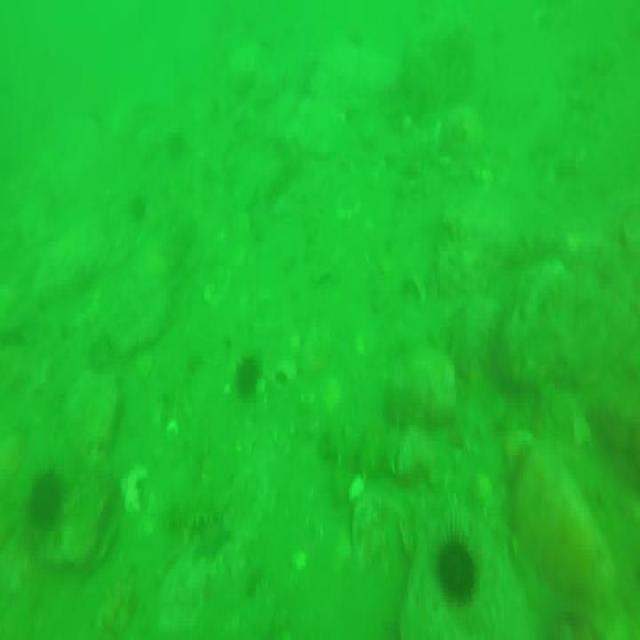echinus: (435, 524, 480, 608), (24, 466, 68, 537), (233, 346, 259, 398), (165, 126, 191, 172), (128, 193, 149, 234)
holothurian: (316, 422, 424, 480), (164, 488, 234, 526)
